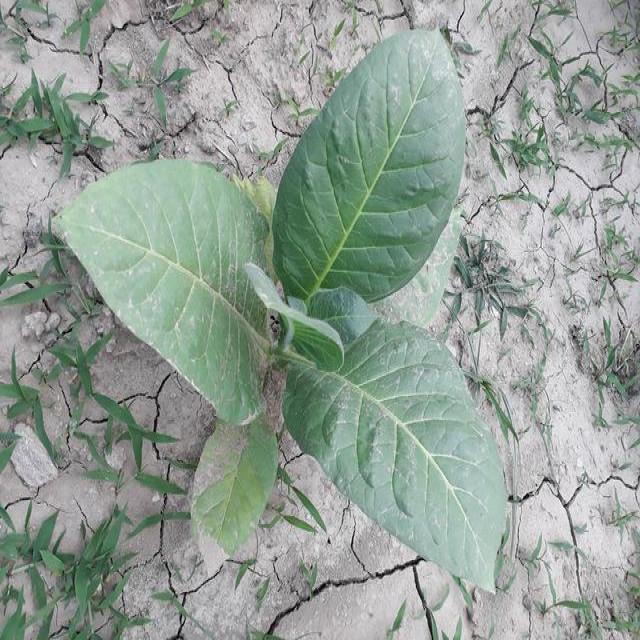crop: (51, 30, 502, 595)
